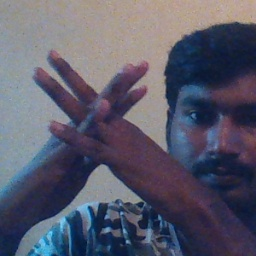W: (23, 42, 177, 217)
